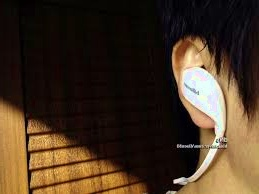earphone: (172, 33, 219, 129)
